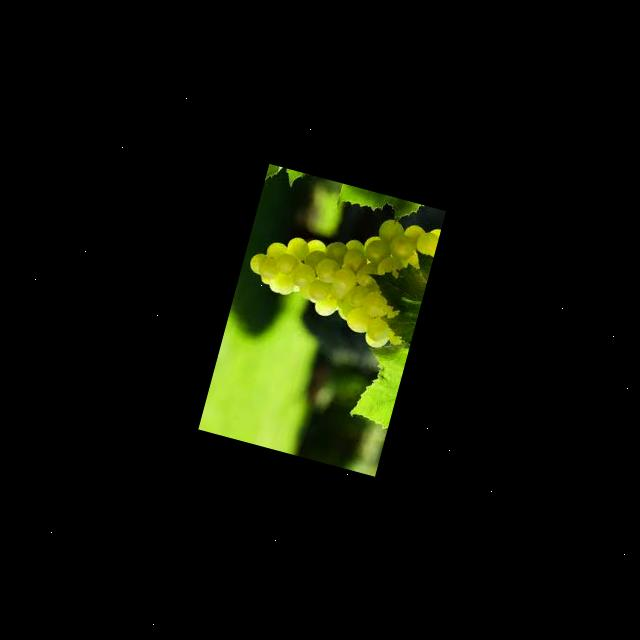grape: (235, 182, 439, 356)
